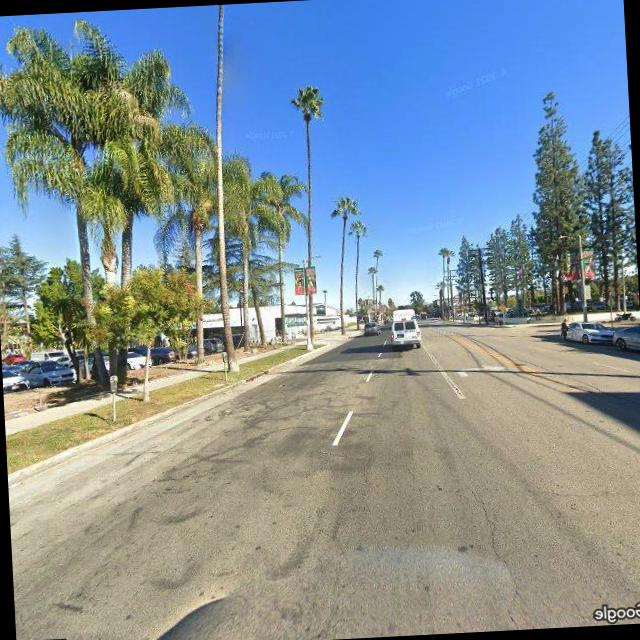pothole: (473, 485, 531, 627)
